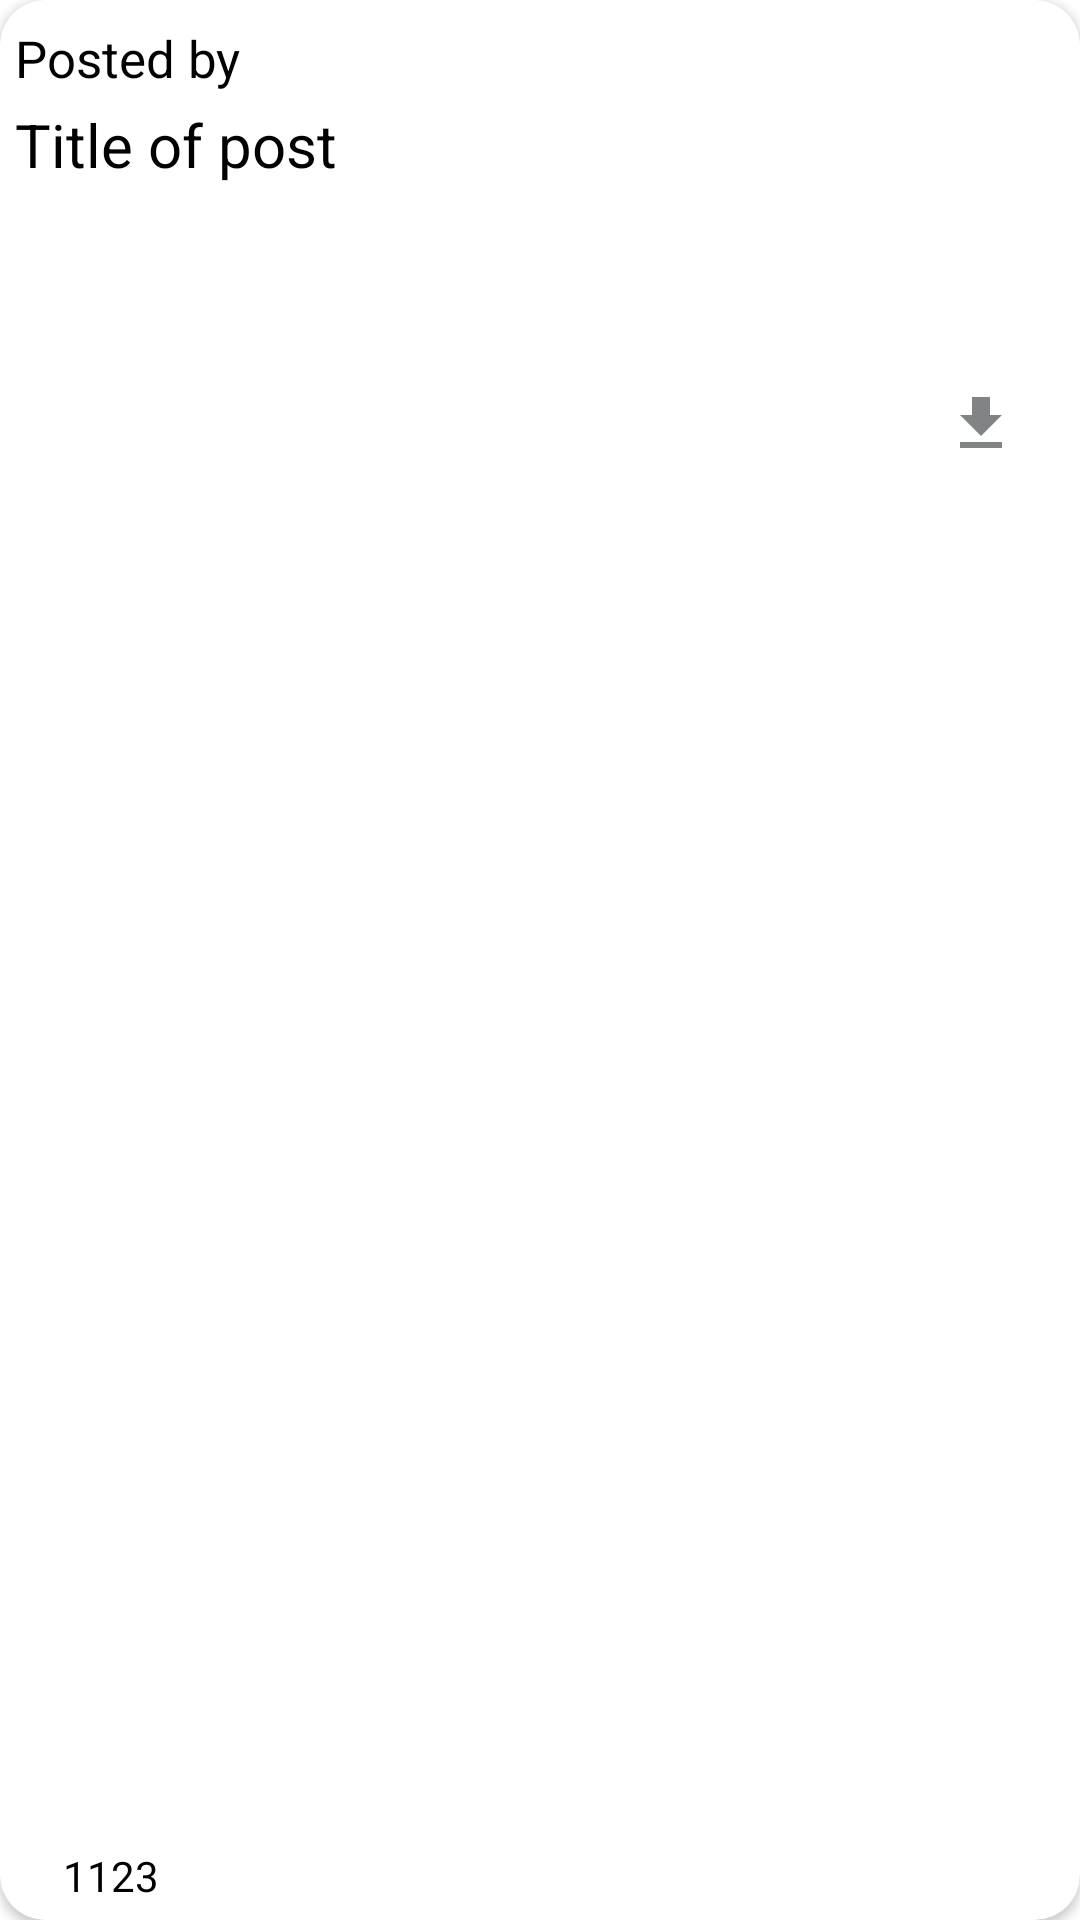

Locate icon controls on the screen. Image size 1080px×1920px, boxes as (x1, y1, x2, y2).
download: (960, 397, 1002, 448)
